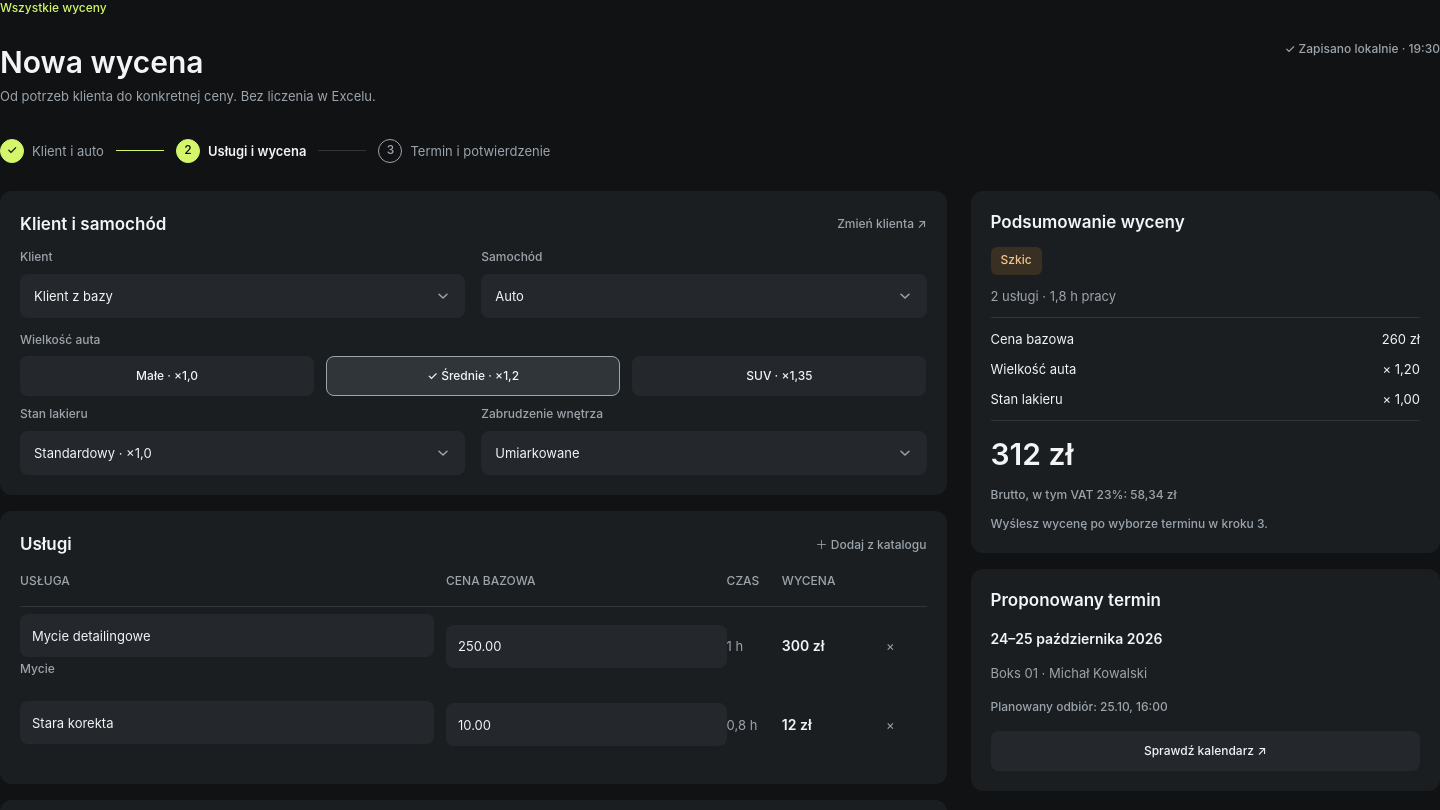
Test case: keeps a saved hidden service on the quote and out of new choices
This screenshot has width=1440, height=810.
Expected: the field named "Nazwa: Stara korekta" is shown, [20,702,434,744]
Click the button "＋ Dodaj z katalogu": (871, 545) [816,537,926,554]
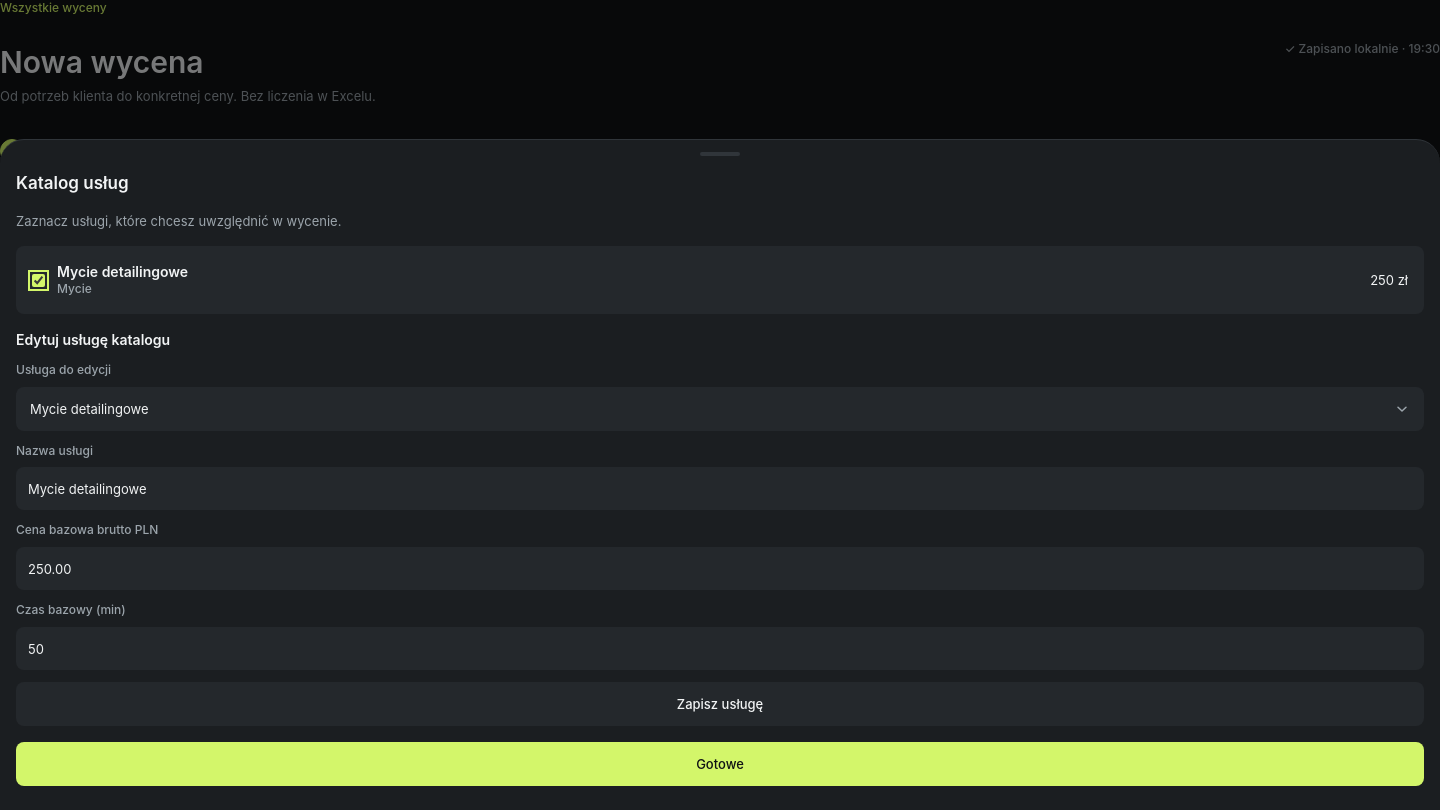
Expected: the checkbox labelled "Mycie detailingowe Mycie 250 zł" is shown, [32,274,45,286]
